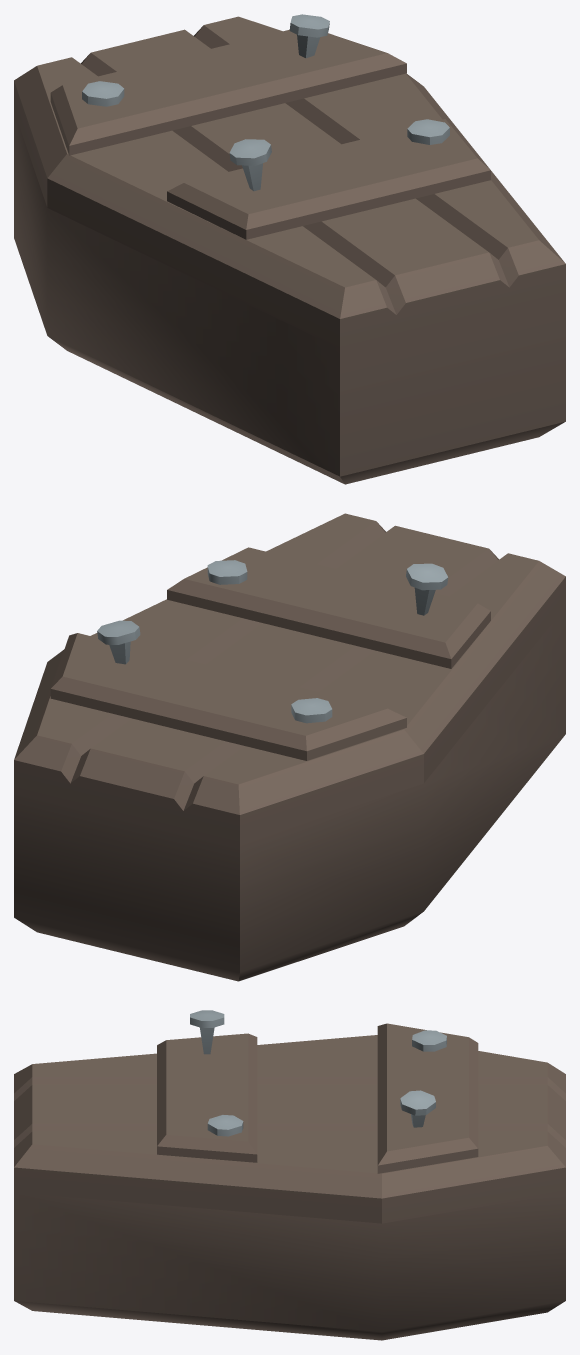
File: Coffin.glb
3 renders of one model, top to bottom at view 1: azimuth 30°, elevation 25°; view 2: azimuth 150°, elevation 25°; view 3: azimuth 270°, elevation 25°, orthographic. The views are drawn at different scales.
Parts seen in each view (by area): view 1: coffin_lid, coffin; view 2: coffin_lid, coffin; view 3: coffin_lid, coffin.
Part boxes in pixels (<box>): coffin_lid: <box>14,14,565,348</box>; coffin: <box>14,110,565,484</box>; coffin_lid: <box>14,513,565,844</box>; coffin: <box>14,606,565,981</box>; coffin_lid: <box>14,1010,565,1223</box>; coffin: <box>14,1192,565,1340</box>.
Bounding box in the file's own units: 2 × 1.32 × 3.
Materials: 1 (1 with a texture image).
